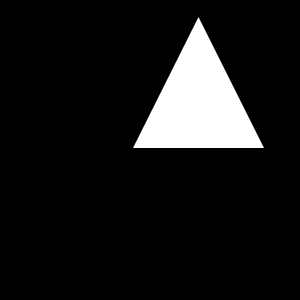triangle: (133, 17, 264, 148)
